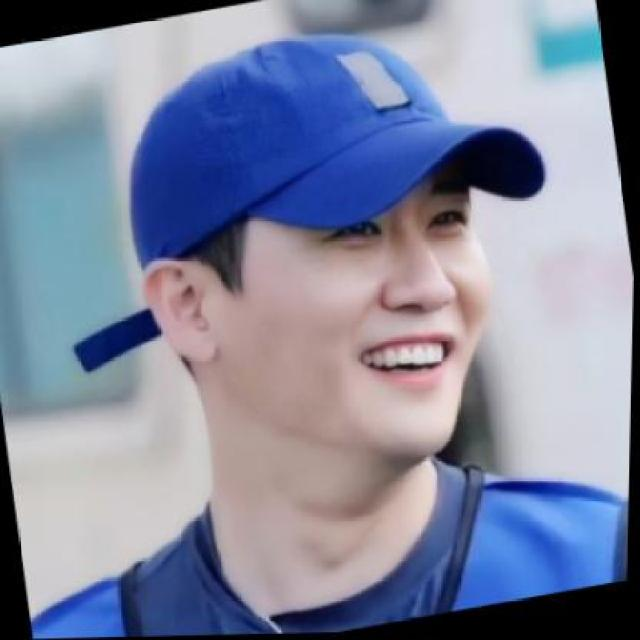hat: (101, 0, 558, 278)
